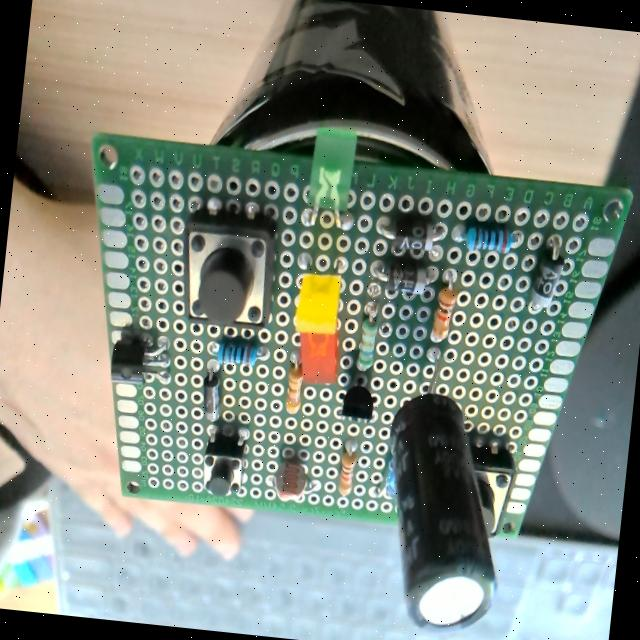Electrolytic capacitor: (370, 389, 513, 637)
cds: (272, 458, 308, 504)
diode: (526, 235, 568, 312), (376, 213, 444, 250), (371, 260, 432, 294), (198, 371, 224, 422)
led: (304, 130, 358, 230), (294, 270, 344, 336), (293, 329, 342, 387)
resistor: (354, 289, 382, 374), (429, 270, 458, 343), (212, 339, 268, 370), (464, 224, 518, 256), (284, 362, 304, 414), (336, 447, 356, 496)
switch: (174, 208, 278, 330), (198, 424, 248, 498)
transistor: (107, 332, 175, 390), (336, 360, 378, 422)
